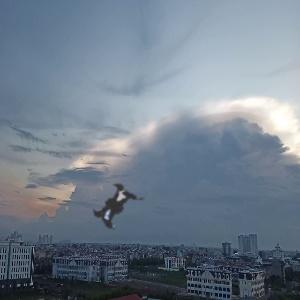drone: (57, 152, 170, 265)
